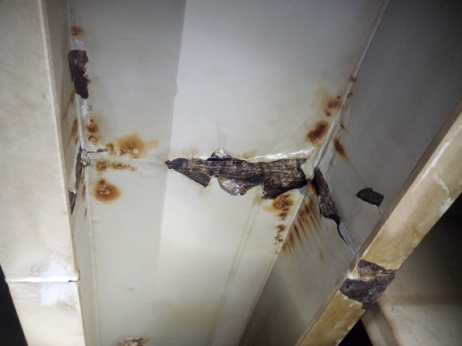corrosion: (167, 139, 310, 199), (336, 254, 396, 307), (75, 159, 142, 204), (300, 164, 345, 231), (65, 31, 105, 101), (282, 208, 327, 262), (308, 85, 348, 144), (333, 135, 373, 183), (345, 172, 390, 214), (72, 102, 106, 148), (105, 129, 146, 158), (264, 193, 281, 249)
